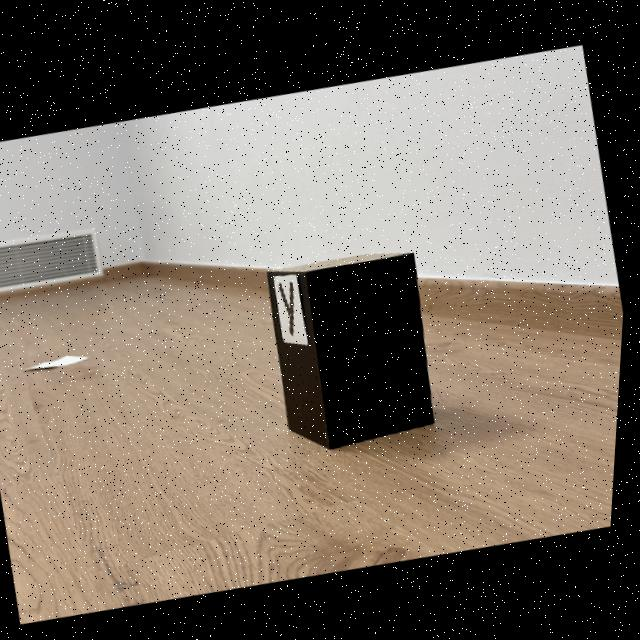Y: (281, 279, 298, 333)
